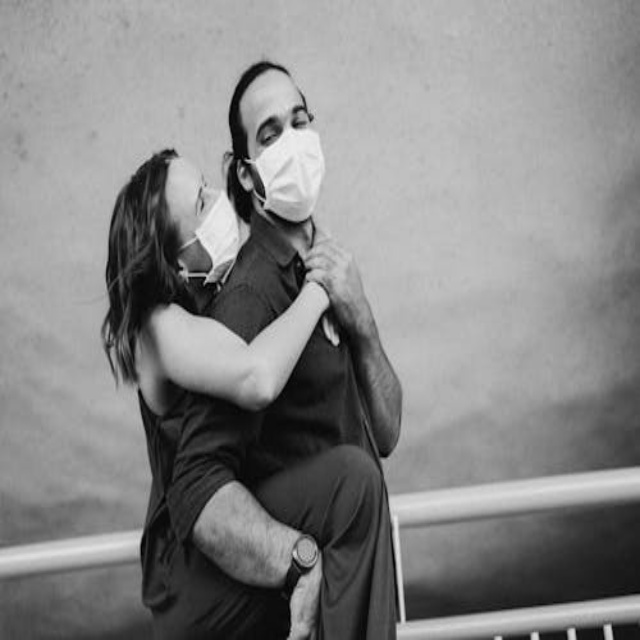Mascara: (245, 125, 325, 223), (174, 182, 242, 287)
Sin_gafas: (255, 100, 311, 152), (177, 163, 214, 223)
Sin_guantes: (303, 227, 370, 321)
